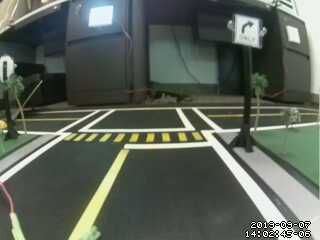Right_only_sign: (235, 14, 262, 49)
